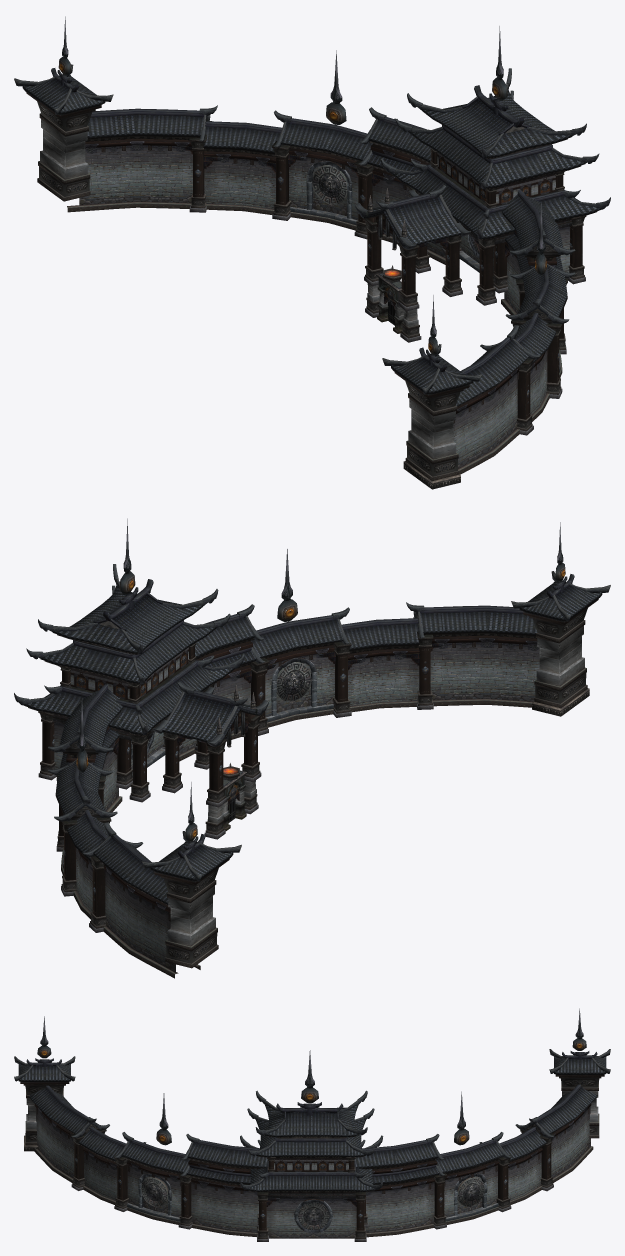
File: GWZ_Building_dadian03.FBX
3 views of the same model, one above another, from view 1: azimuth 30°, elevation 25°; view 2: azimuth 150°, elevation 25°; view 3: azimuth 270°, elevation 25° (orthographic). The views are drawn at different scales.
Visible parts, largest first — view 1: GWZ_Building_dadian03; view 2: GWZ_Building_dadian03; view 3: GWZ_Building_dadian03.
Part boxes in pixels (<box>): GWZ_Building_dadian03: <box>14,16,610,489</box>; GWZ_Building_dadian03: <box>14,518,610,978</box>; GWZ_Building_dadian03: <box>14,1008,610,1241</box>.
Size of the model in its own units: 5729 by 4409 by 11852.
